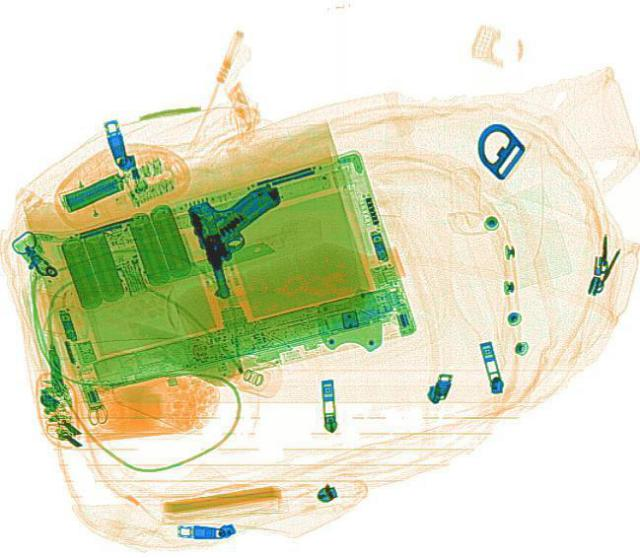Gun: (183, 181, 303, 297)
